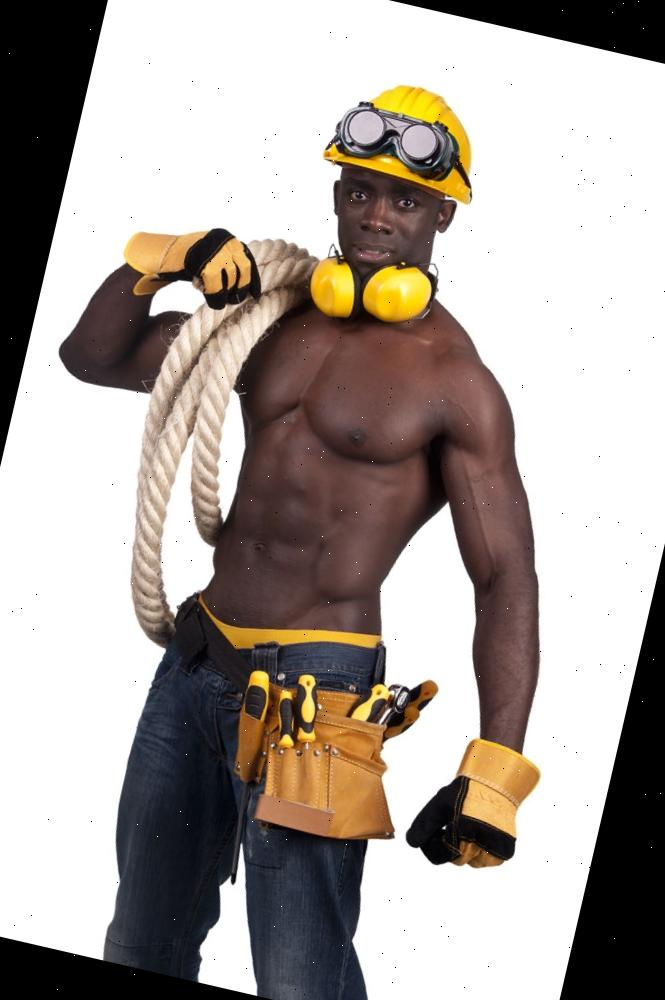helmet: (318, 62, 498, 213)
no_wear: (147, 258, 498, 690)
